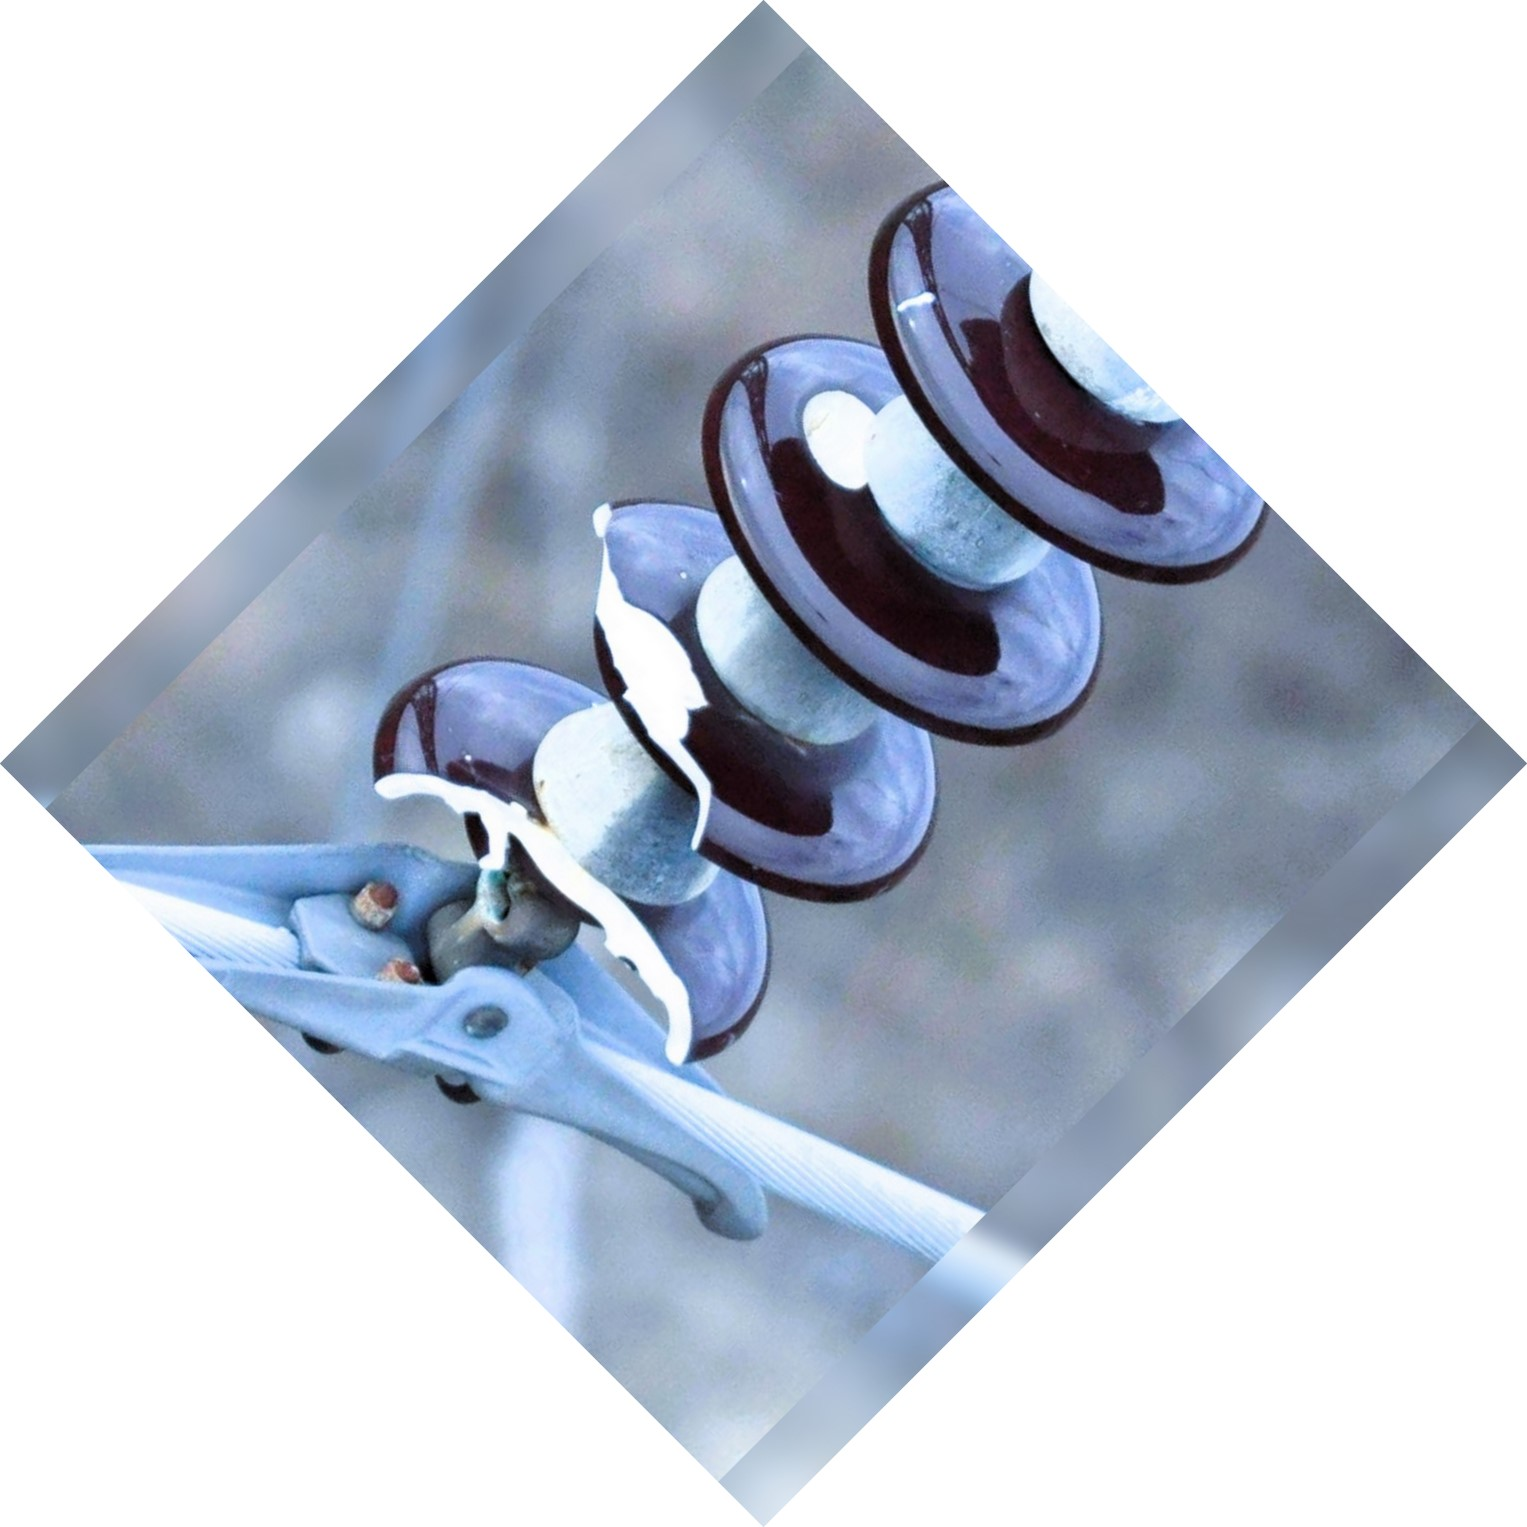insulator breakage: (334, 482, 882, 1056)
